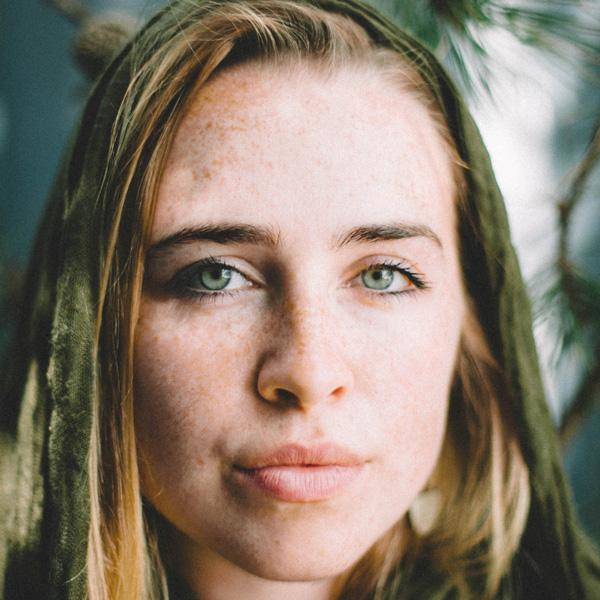Eyes: (159, 246, 270, 311), (332, 248, 434, 312)
